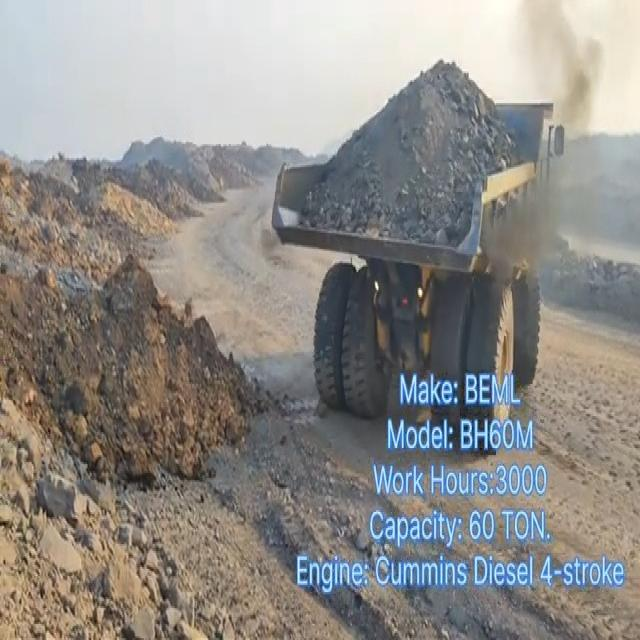dump_truck: (264, 55, 552, 421)
